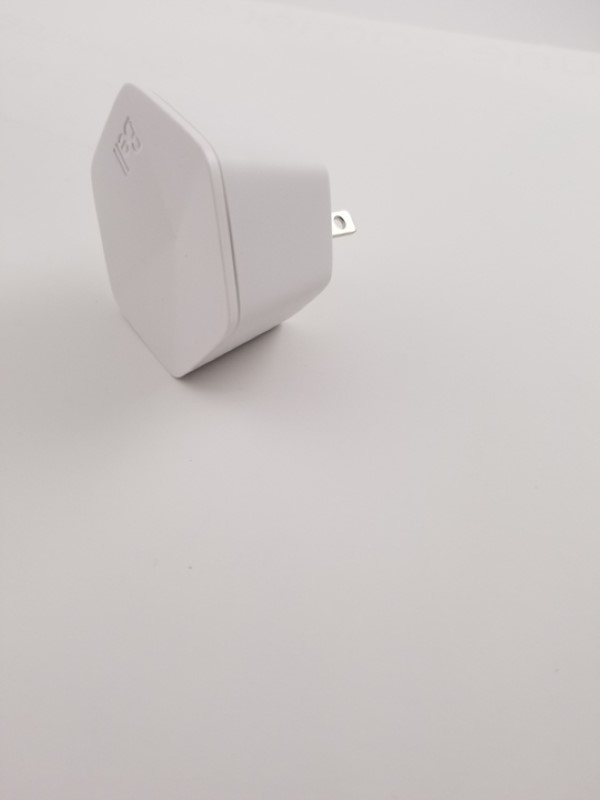pod: (89, 77, 361, 384)
